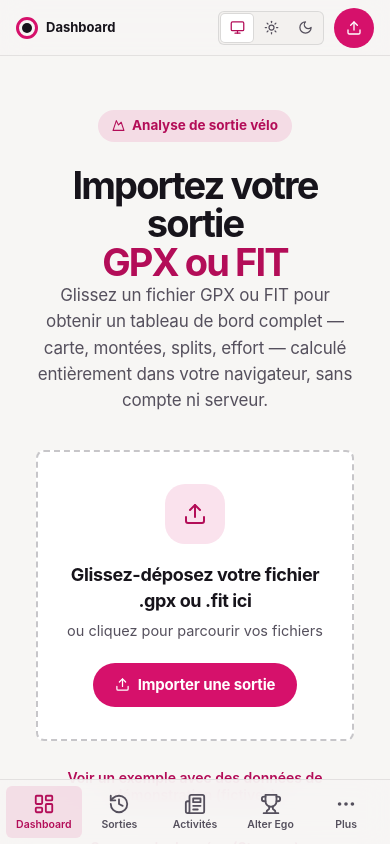
Scenario: Navigation : structure responsive › depuis le menu « Plus » du mobile, toutes les destinations secondaires mènent à leur vue
Expected: the text "Glissez-déposez votre fichier .gpx ou .fit ici" is shown, [56,562,334,614]
Click the button with aria-label "Plus de destinations" at (346,812), box [308,786,384,838]
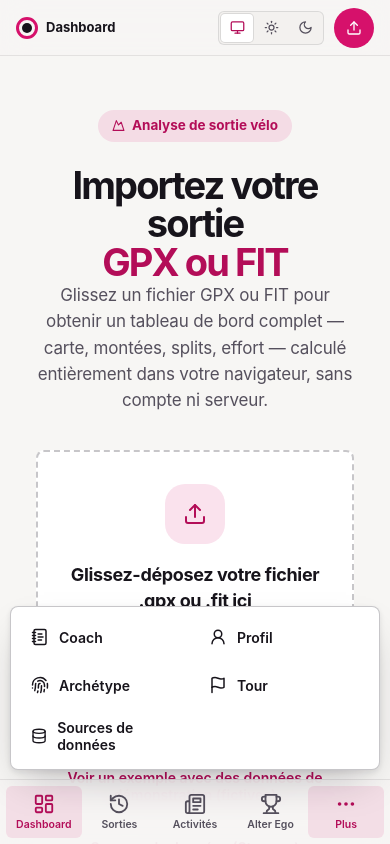
Click the button "Profil" at (284,637), box [197,615,371,659]
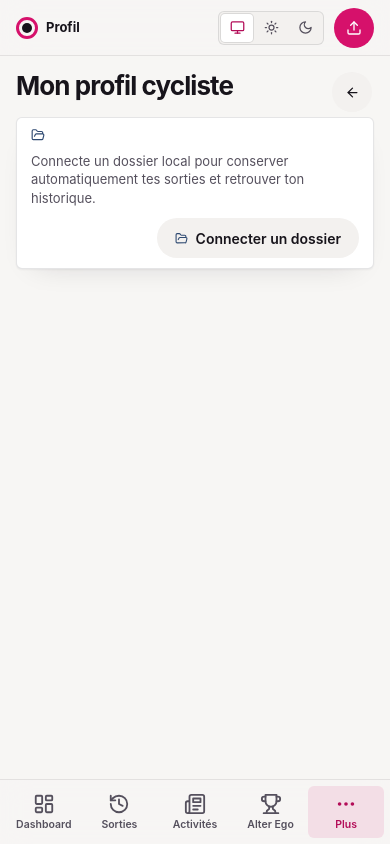
Result: the heading "Mon profil cycliste" is shown at [16,70,233,101]
